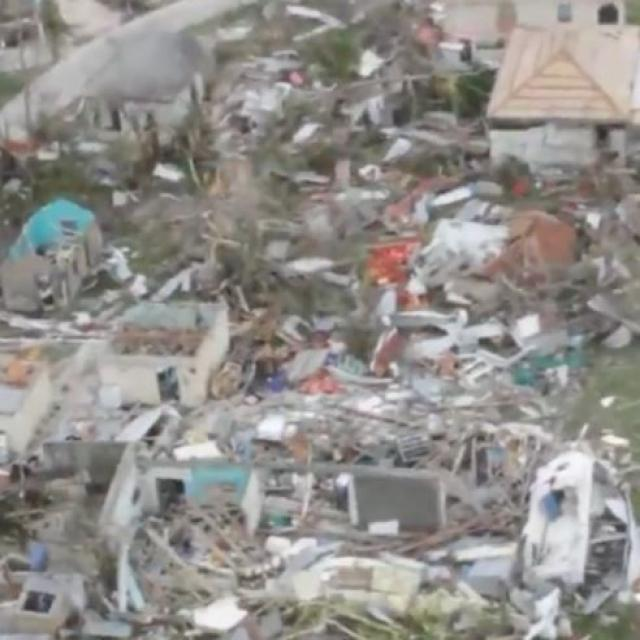collapsed_building: (12, 220, 597, 632), (99, 12, 463, 194)
